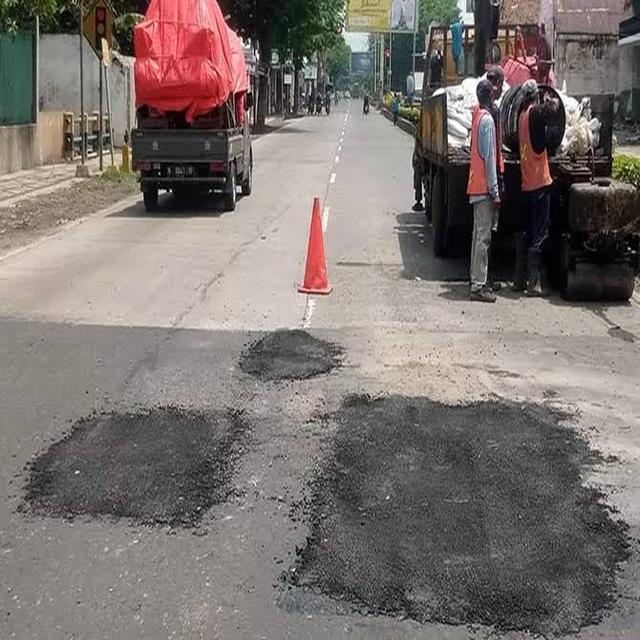Sambungan: (294, 399, 629, 637), (29, 414, 238, 525), (237, 327, 347, 388)
